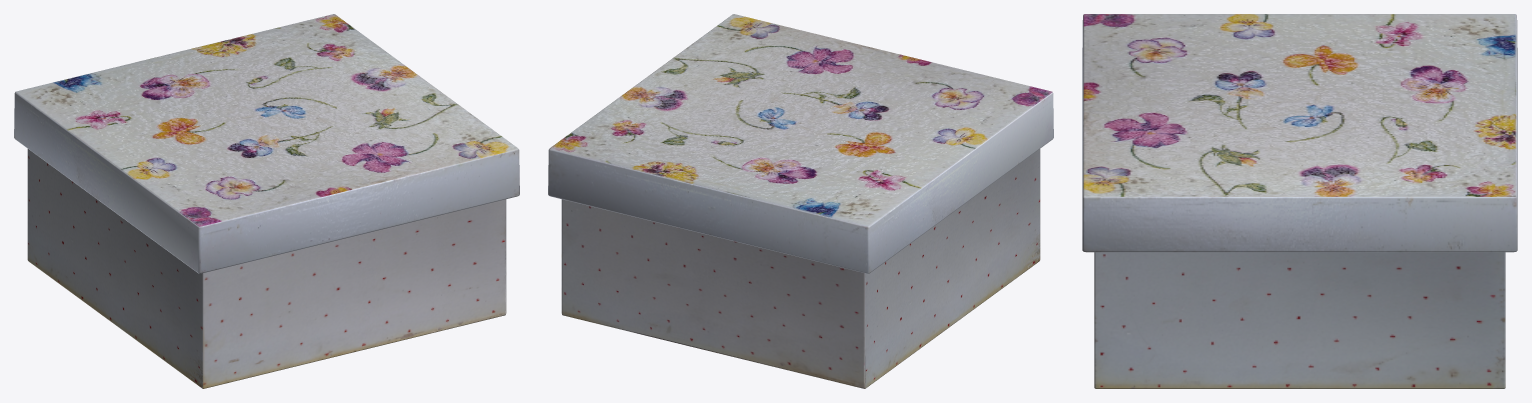
File: CuteBox.fbx
The picture shows the model from 3 angles, left to right: view 1: azimuth 30°, elevation 25°; view 2: azimuth 150°, elevation 25°; view 3: azimuth 270°, elevation 25°; orthographic projection. The views are drawn at different scales.
Parts seen in each view (by area): view 1: Cover, Box; view 2: Cover, Box; view 3: Cover, Box.
Boxes of the visible parts, x1=… form: Cover: x1=14, y1=14, x2=519, y2=273; Box: x1=27, y1=149, x2=506, y2=388; Cover: x1=548, y1=14, x2=1053, y2=273; Box: x1=561, y1=149, x2=1040, y2=388; Cover: x1=1082, y1=14, x2=1517, y2=252; Box: x1=1094, y1=252, x2=1505, y2=388.
Bounding box in the file's own units: 423 × 212 × 423.
1 material, 1 textured.
